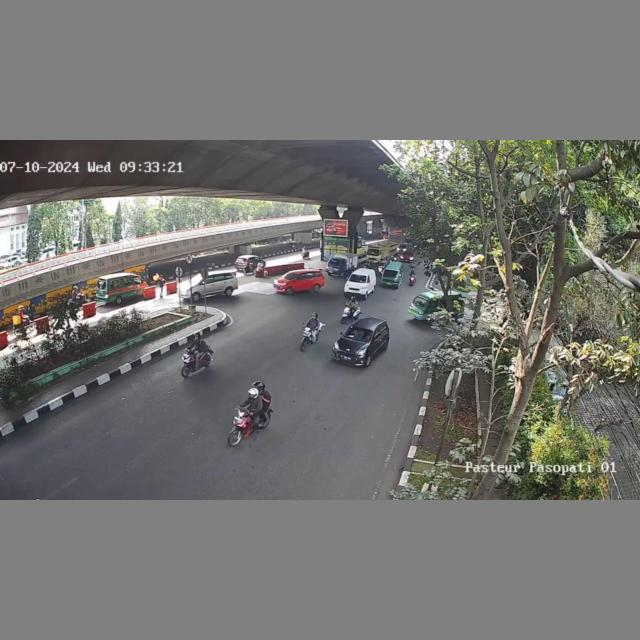windshield: (342, 326, 375, 342), (349, 273, 367, 283), (382, 268, 399, 278)
